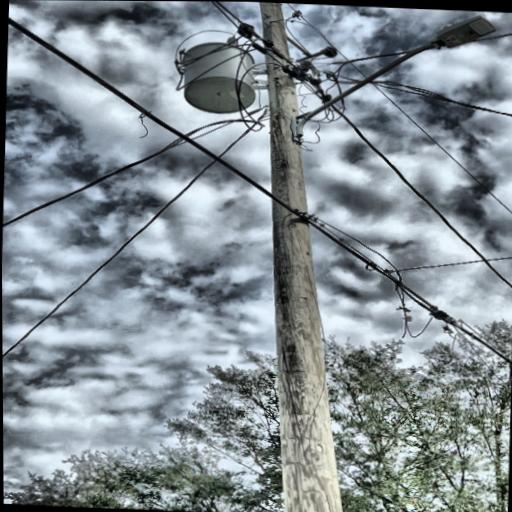pole: (216, 2, 449, 512)
street light: (286, 4, 504, 150)
transformer: (176, 37, 260, 117)
